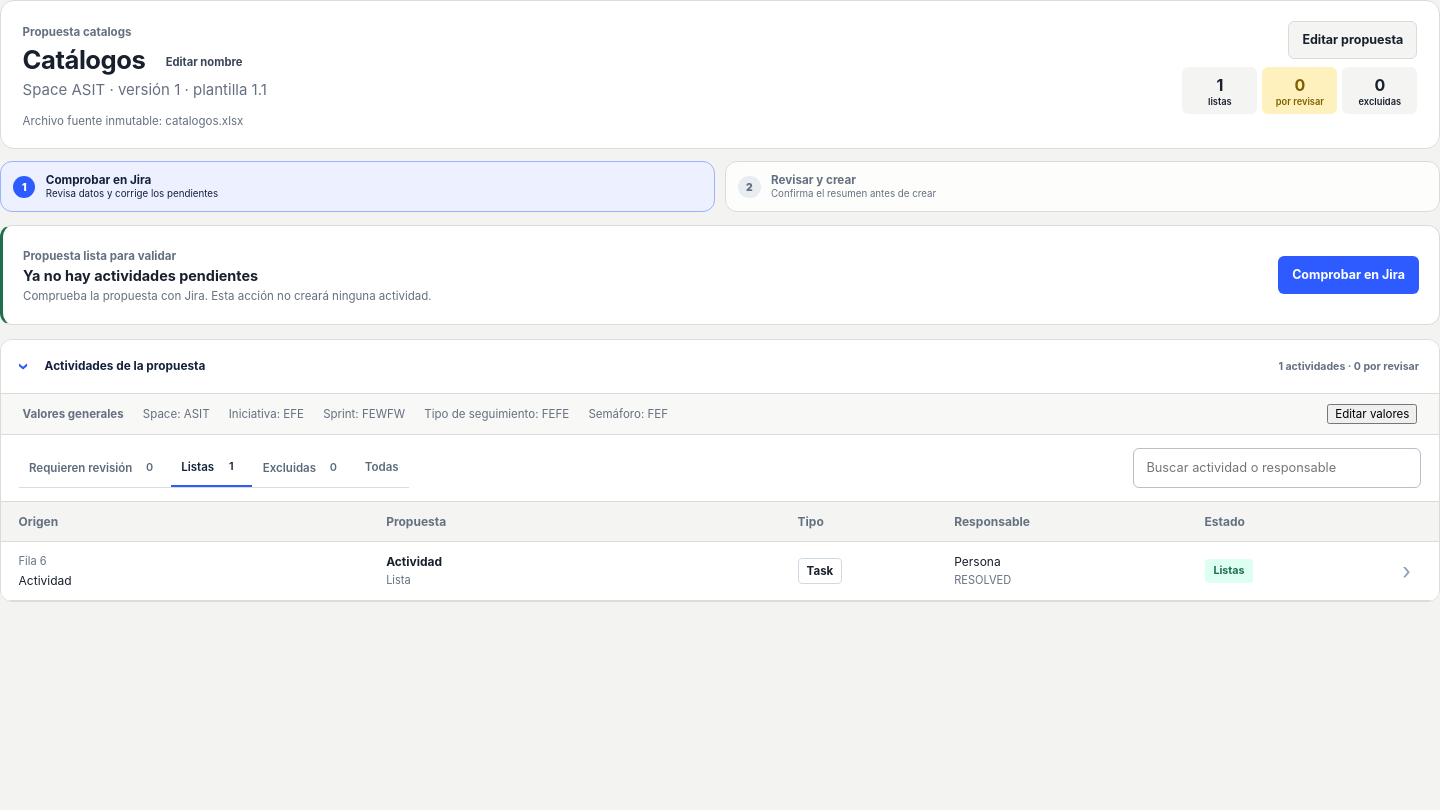
Test case: App › mantiene los campos generales como desplegables y pide reautorizar cuando Jira vence
Click the button "Editar valores": (1372, 414) [1327, 404, 1417, 424]
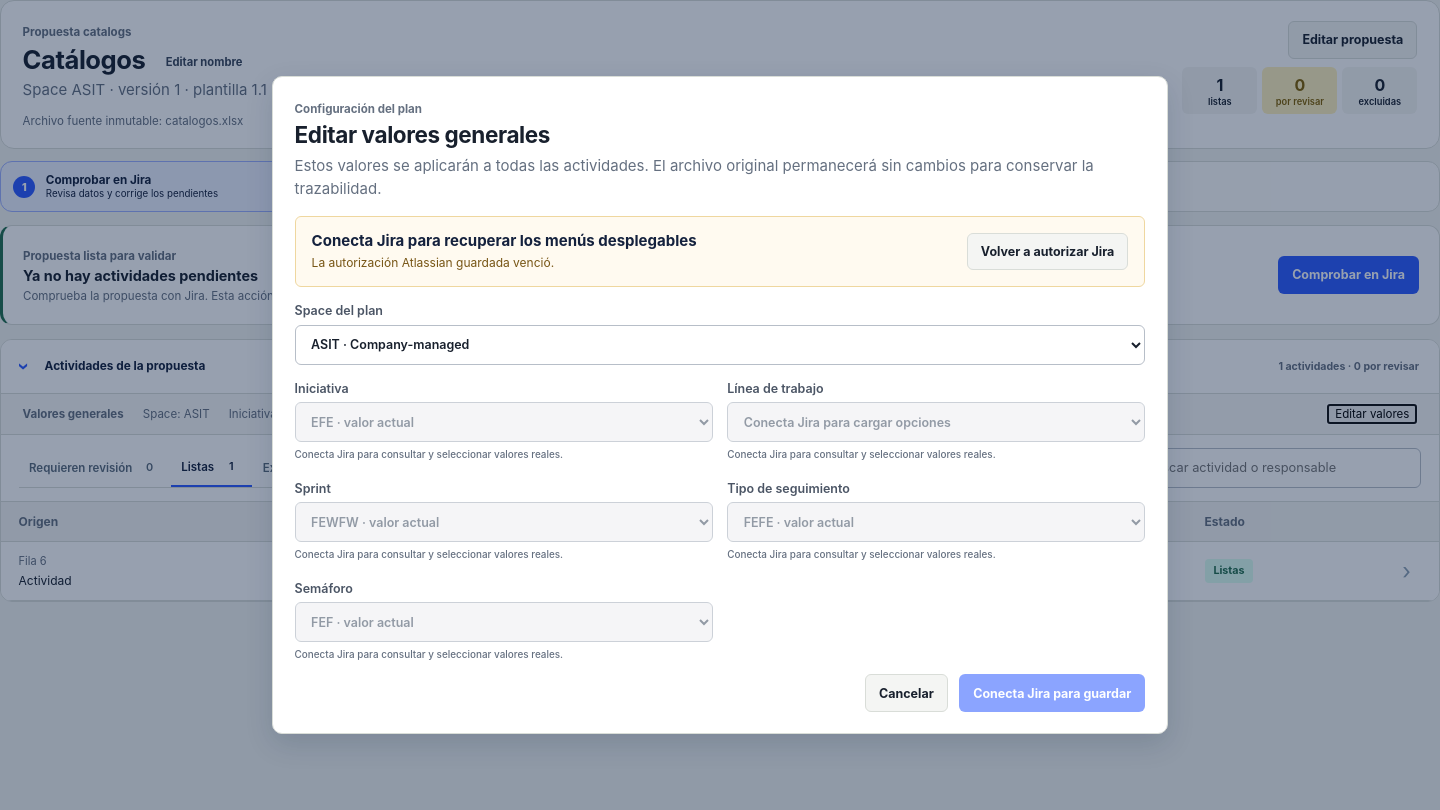
Check: the text "Conecta Jira para recuperar los menús desplegables" is shown, box [312, 232, 697, 250]
Check: the button "Volver a autorizar Jira" is shown, box [967, 233, 1128, 270]
Check: the button "Conecta Jira para guardar" is disabled, box [959, 674, 1145, 712]
